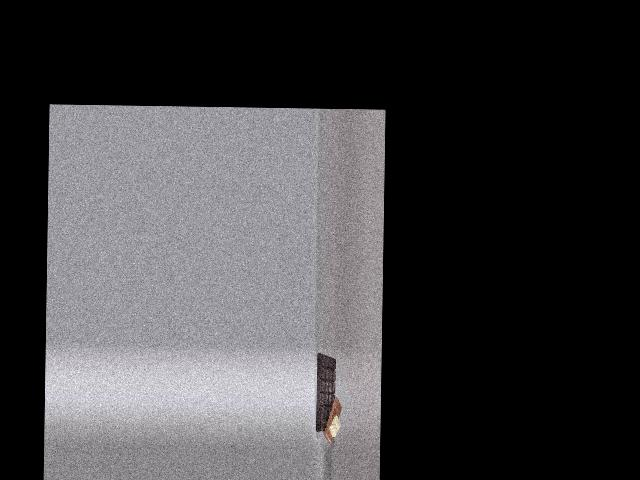chocolate: (313, 352, 339, 437)
